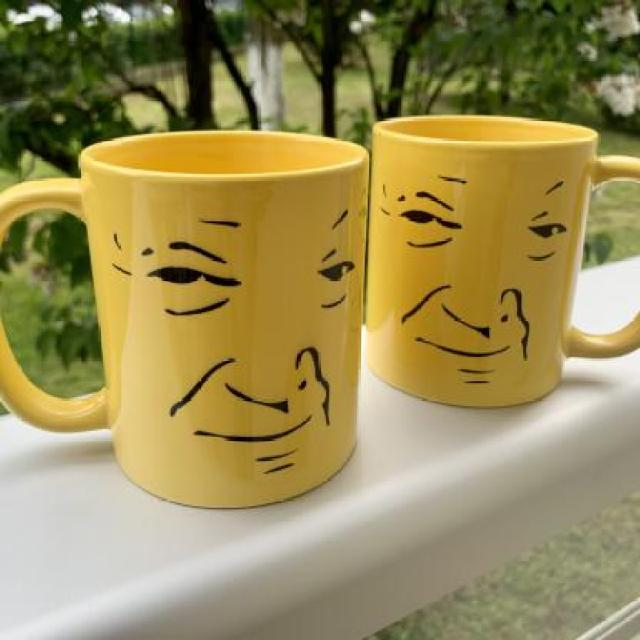cup: (0, 128, 369, 513), (365, 111, 639, 412)
